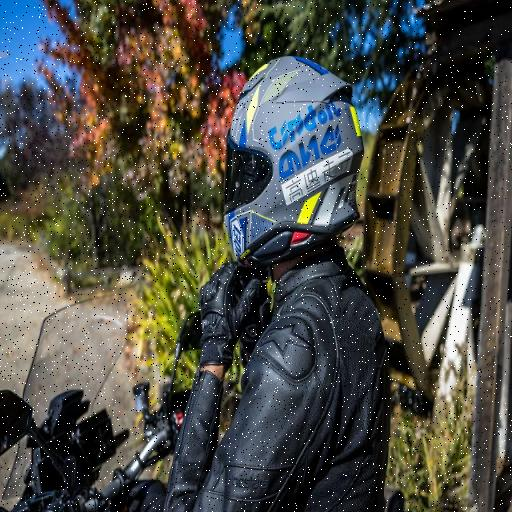Helmet: (212, 70, 366, 258)
